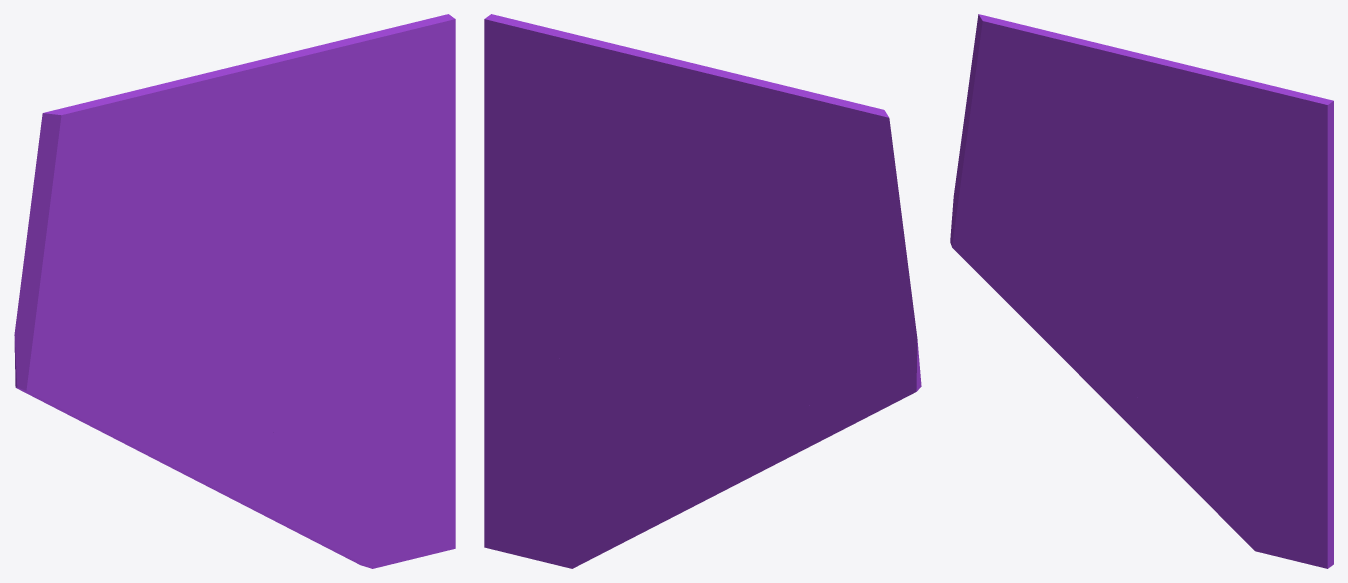
Rendered from Glass_9_2_chunks.fbx.
3 renders of one model, left to right at view 1: azimuth 30°, elevation 25°; view 2: azimuth 150°, elevation 25°; view 3: azimuth 330°, elevation 25°, orthographic. The views are drawn at different scales.
Parts seen in each view (by area): view 1: Glass_9_2_2, Glass_9_2_0, Glass_9_2_12, Glass_9_2_5, Glass_9_2_11, Glass_9_2_10, Glass_9_2_4, Glass_9_2_24, Glass_9_2_20, Glass_9_2_15, Glass_9_2_19, Glass_9_2_21 (+7 smaller); view 2: Glass_9_2_12, Glass_9_2_2, Glass_9_2_5, Glass_9_2_10, Glass_9_2_0, Glass_9_2_4, Glass_9_2_15, Glass_9_2_11, Glass_9_2_8, Glass_9_2_18, Glass_9_2_20, Glass_9_2_24 (+9 smaller); view 3: Glass_9_2_2, Glass_9_2_0, Glass_9_2_12, Glass_9_2_5, Glass_9_2_11, Glass_9_2_10, Glass_9_2_4, Glass_9_2_15, Glass_9_2_20, Glass_9_2_24, Glass_9_2_19, Glass_9_2_13 (+8 smaller).
Part boxes in pixels (x1,y1,x2,y2): Glass_9_2_2: (279,14,455,232); Glass_9_2_0: (250,231,455,415); Glass_9_2_12: (37,61,254,269); Glass_9_2_5: (321,387,455,567); Glass_9_2_11: (126,77,253,311); Glass_9_2_10: (44,296,229,426); Glass_9_2_4: (165,447,376,568); Glass_9_2_24: (31,159,129,330); Glass_9_2_20: (96,336,284,430); Glass_9_2_15: (238,55,317,226); Glass_9_2_19: (257,359,357,452); Glass_9_2_21: (14,200,64,379); Glass_9_2_12: (678,63,894,291); Glass_9_2_2: (484,14,665,215); Glass_9_2_5: (484,394,612,566); Glass_9_2_10: (702,286,889,428); Glass_9_2_0: (484,240,658,346); Glass_9_2_4: (565,452,767,568); Glass_9_2_15: (616,56,695,227); Glass_9_2_11: (684,119,793,299); Glass_9_2_8: (540,304,713,375); Glass_9_2_18: (677,405,843,468); Glass_9_2_20: (661,338,828,418); Glass_9_2_24: (813,164,900,321); Glass_9_2_2: (1174,64,1333,268); Glass_9_2_0: (1148,243,1333,451); Glass_9_2_12: (973,14,1162,184); Glass_9_2_5: (1210,386,1333,568); Glass_9_2_11: (1039,70,1150,264); Glass_9_2_10: (977,208,1129,309); Glass_9_2_4: (1083,378,1258,551); Glass_9_2_15: (1137,59,1207,206); Glass_9_2_20: (1014,285,1177,360); Glass_9_2_24: (968,52,1042,228); Glass_9_2_19: (1154,330,1241,422); Glass_9_2_13: (1127,219,1190,302).
Bounding box in the file's own units: 983 × 1144 × 27.2.
